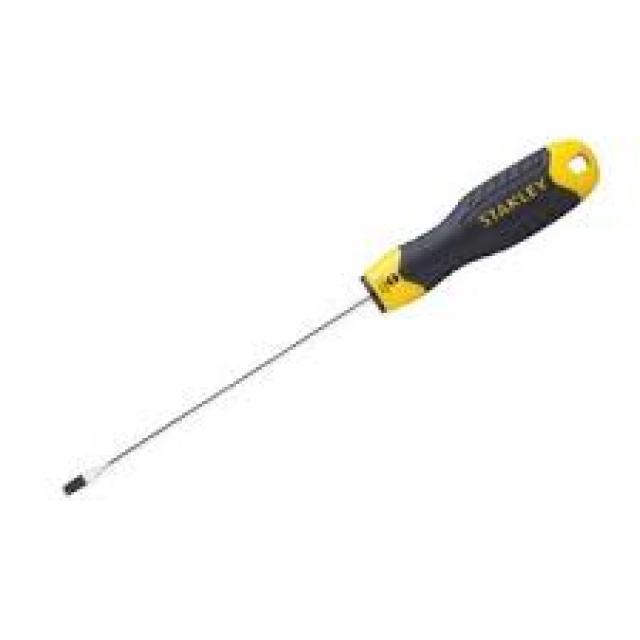screwdriver: (55, 135, 599, 502)
